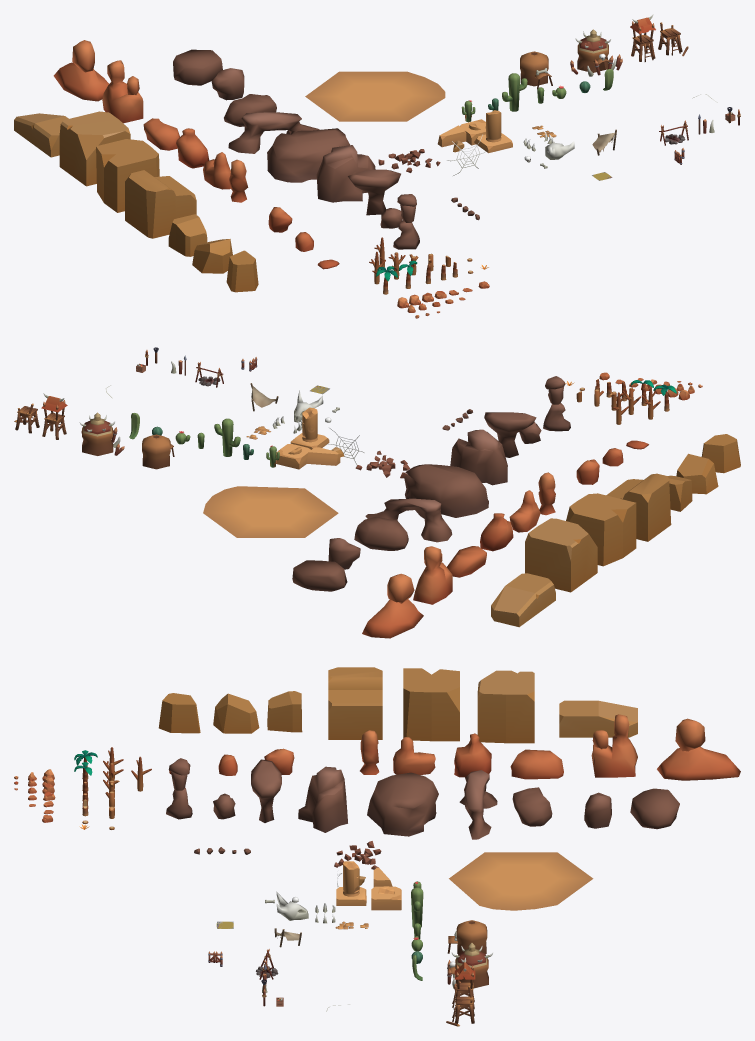
The model's file is Object_Stage2.fbx.
The picture shows the model from 3 angles, top to bottom: view 1: azimuth 30°, elevation 25°; view 2: azimuth 150°, elevation 25°; view 3: azimuth 270°, elevation 25°; orthographic projection. The views are drawn at different scales.
Visible parts, largest first — view 1: ST2_Ground_Hidden, ST2_1_Rock_04, ST2_1_Rock_06, ST2_3_Rock_05, ST2_1_Rock_05, ST2_3_Rock_04, ST2_2_Rock_10, ST2_2_Rock_09, ST2_3_Rock_06, ST2_1_Rock_07, ST2_3_Rock_09, ST2_Goblin_House (+17 smaller); view 2: ST2_Ground_Hidden, ST2_1_Rock_06, ST2_1_Rock_05, ST2_3_Rock_05, ST2_1_Rock_04, ST2_1_Rock_07, ST2_3_Rock_04, ST2_2_Rock_10, ST2_3_Rock_06, ST2_2_Rock_09, ST2_3_Rock_07, ST2_3_Rock_09 (+19 smaller); view 3: ST2_Ground_Hidden, ST2_1_Rock_06, ST2_1_Rock_05, ST2_1_Rock_04, ST2_3_Rock_05, ST2_2_Rock_10, ST2_1_Rock_07, ST2_3_Rock_04, ST2_2_Rock_09, ST2_3_Rock_09, ST2_3_Rock_06, ST2_1_Rock_02 (+15 smaller).
Part boxes in pixels (left/top/right/bottom): ST2_Ground_Hidden: left=305, top=71, right=445, bottom=121; ST2_1_Rock_04: left=125, top=170, right=196, bottom=238; ST2_1_Rock_06: left=59, top=111, right=130, bottom=186; ST2_3_Rock_05: left=267, top=128, right=349, bottom=182; ST2_1_Rock_05: left=96, top=139, right=159, bottom=212; ST2_3_Rock_04: left=316, top=145, right=375, bottom=202; ST2_2_Rock_10: left=53, top=40, right=108, bottom=101; ST2_2_Rock_09: left=102, top=60, right=143, bottom=123; ST2_3_Rock_06: left=228, top=112, right=319, bottom=153; ST2_1_Rock_07: left=14, top=113, right=68, bottom=157; ST2_3_Rock_09: left=173, top=49, right=222, bottom=85; ST2_Goblin_House: left=570, top=29, right=622, bottom=76; ST2_Ground_Hidden: left=203, top=486, right=338, bottom=537; ST2_1_Rock_06: left=525, top=518, right=597, bottom=592; ST2_1_Rock_05: left=566, top=493, right=636, bottom=566; ST2_3_Rock_05: left=404, top=464, right=488, bottom=517; ST2_1_Rock_04: left=606, top=473, right=671, bottom=541; ST2_1_Rock_07: left=491, top=573, right=555, bottom=627; ST2_3_Rock_04: left=450, top=429, right=507, bottom=485; ST2_2_Rock_10: left=362, top=573, right=423, bottom=638; ST2_3_Rock_06: left=365, top=498, right=452, bottom=542; ST2_2_Rock_09: left=413, top=546, right=452, bottom=604; ST2_3_Rock_07: left=354, top=516, right=408, bottom=550; ST2_3_Rock_09: left=292, top=560, right=347, bottom=591; ST2_Ground_Hidden: left=449, top=852, right=593, bottom=910; ST2_1_Rock_06: left=477, top=670, right=534, bottom=743; ST2_1_Rock_05: left=403, top=668, right=459, bottom=741; ST2_1_Rock_04: left=328, top=667, right=382, bottom=739; ST2_3_Rock_05: left=367, top=772, right=438, bottom=836; ST2_2_Rock_10: left=657, top=718, right=740, bottom=780; ST2_1_Rock_07: left=559, top=700, right=637, bottom=737; ST2_3_Rock_04: left=298, top=766, right=347, bottom=832; ST2_2_Rock_09: left=591, top=714, right=637, bottom=777; ST2_3_Rock_09: left=630, top=788, right=679, bottom=829; ST2_3_Rock_06: left=459, top=770, right=497, bottom=839; ST2_1_Rock_02: left=213, top=693, right=259, bottom=733.
Bounding box in the file's own units: 87.43 × 9.52 × 86.32.
